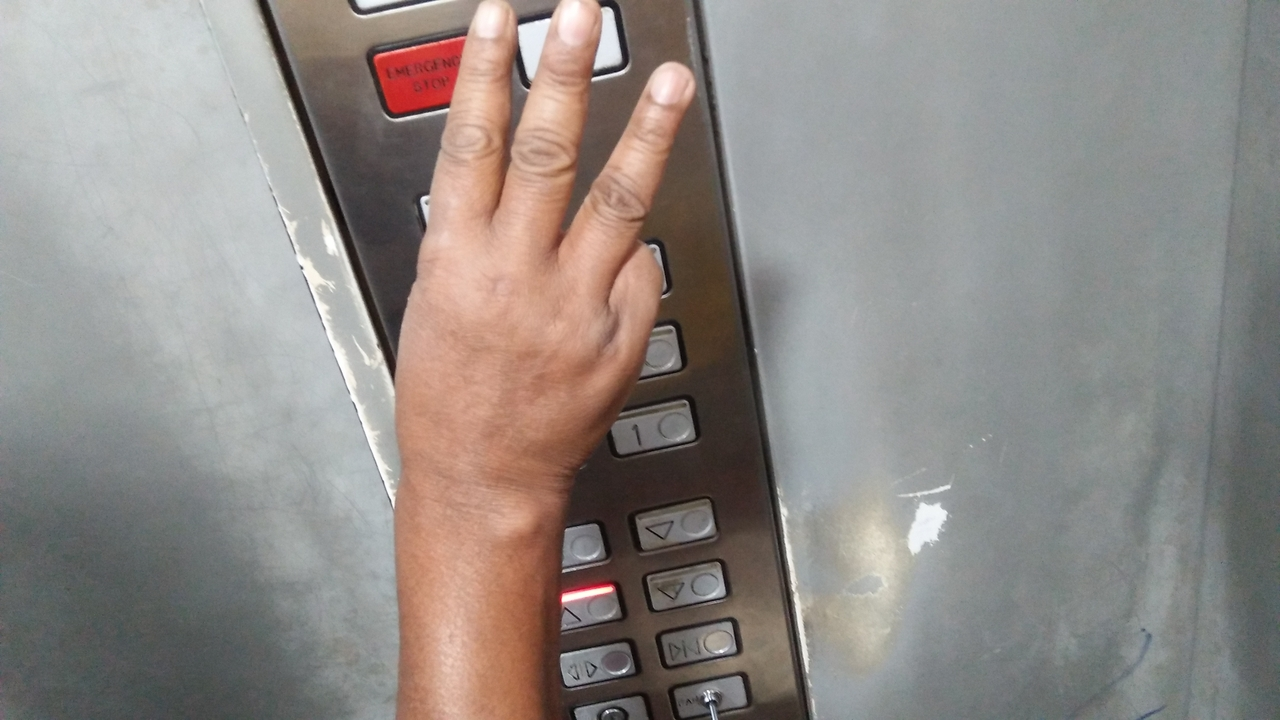fingertip: (636, 52, 700, 114), (542, 0, 604, 56), (462, 0, 518, 50)
